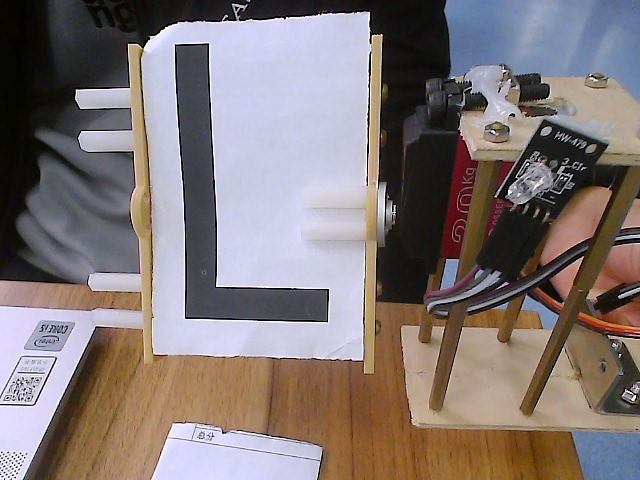L: (62, 17, 407, 380)
